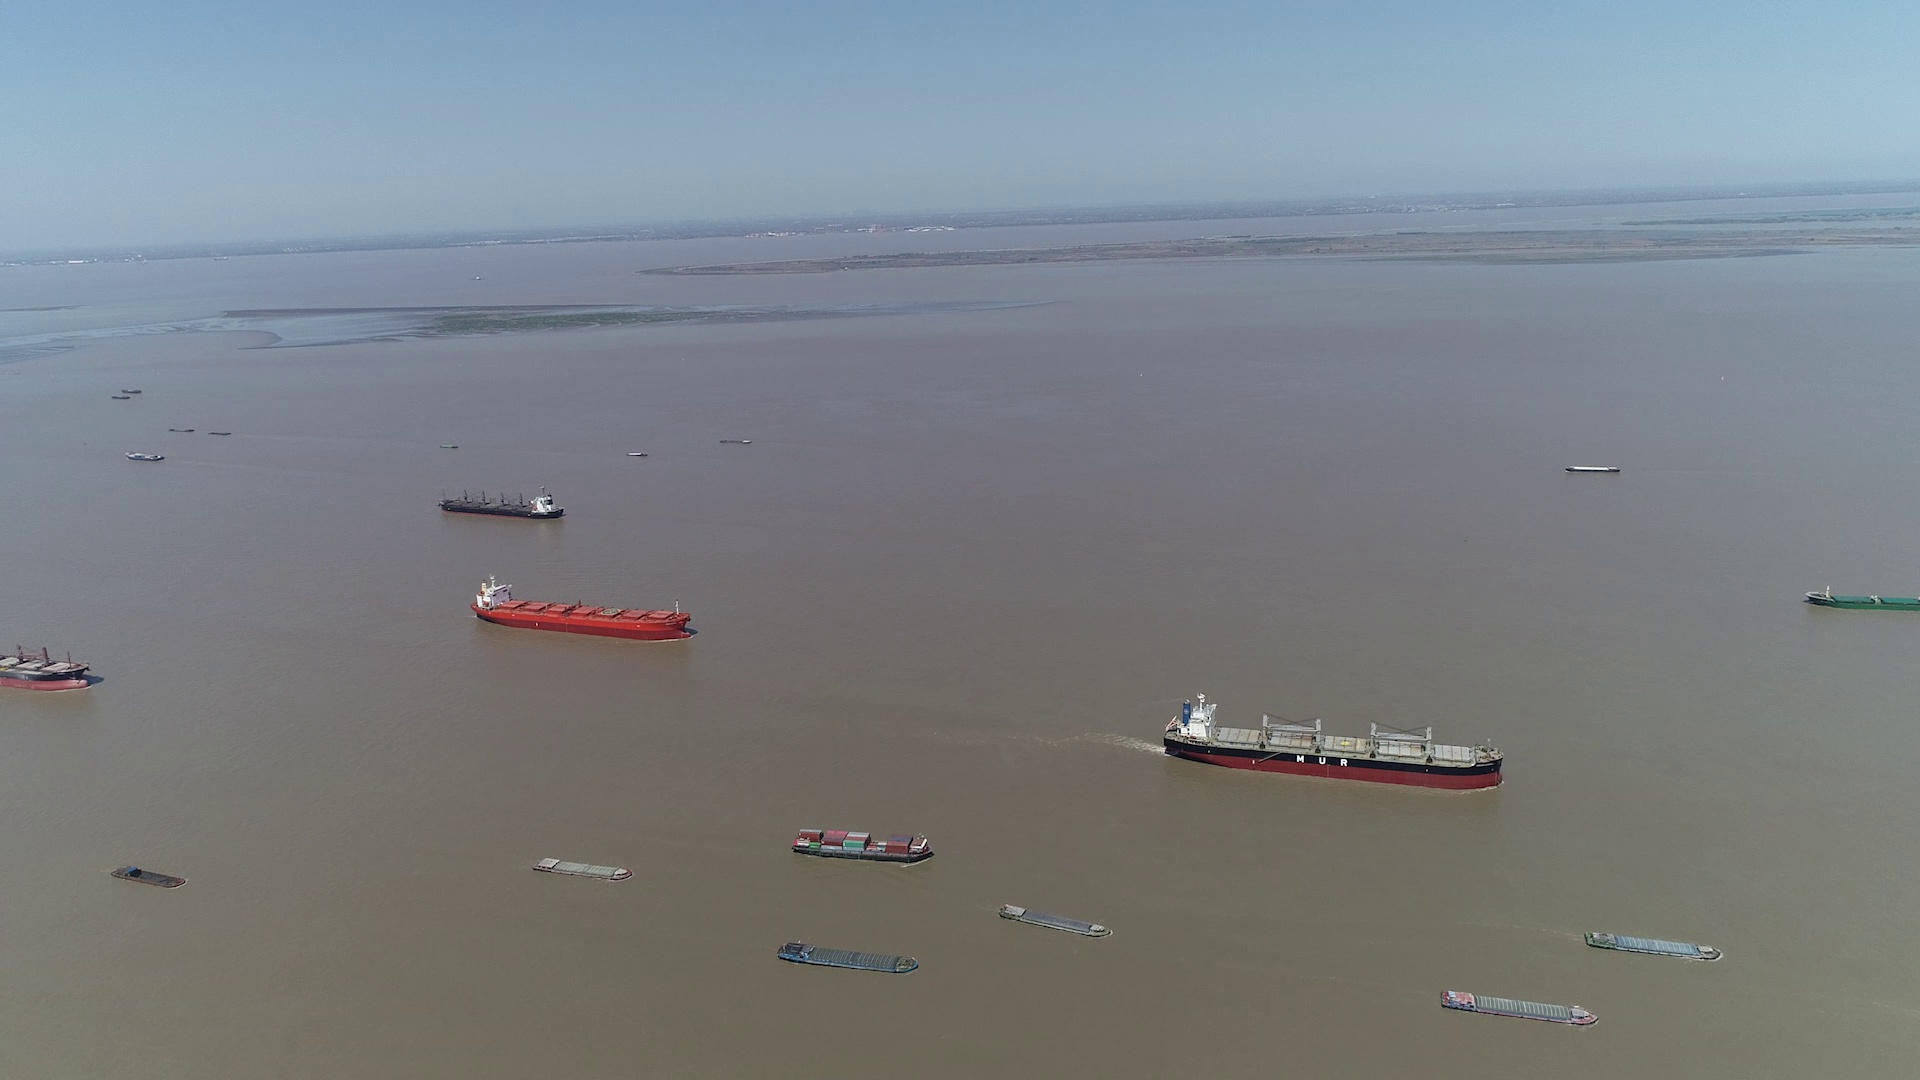ship: (1167, 696, 1506, 789), (473, 574, 690, 640), (0, 632, 98, 694), (1443, 989, 1596, 1025), (791, 827, 934, 864), (779, 939, 922, 975), (1585, 928, 1722, 963), (998, 902, 1113, 940), (438, 487, 564, 520), (1804, 587, 1919, 612), (534, 857, 634, 881), (112, 864, 183, 887), (127, 448, 167, 462), (1563, 464, 1615, 473)
